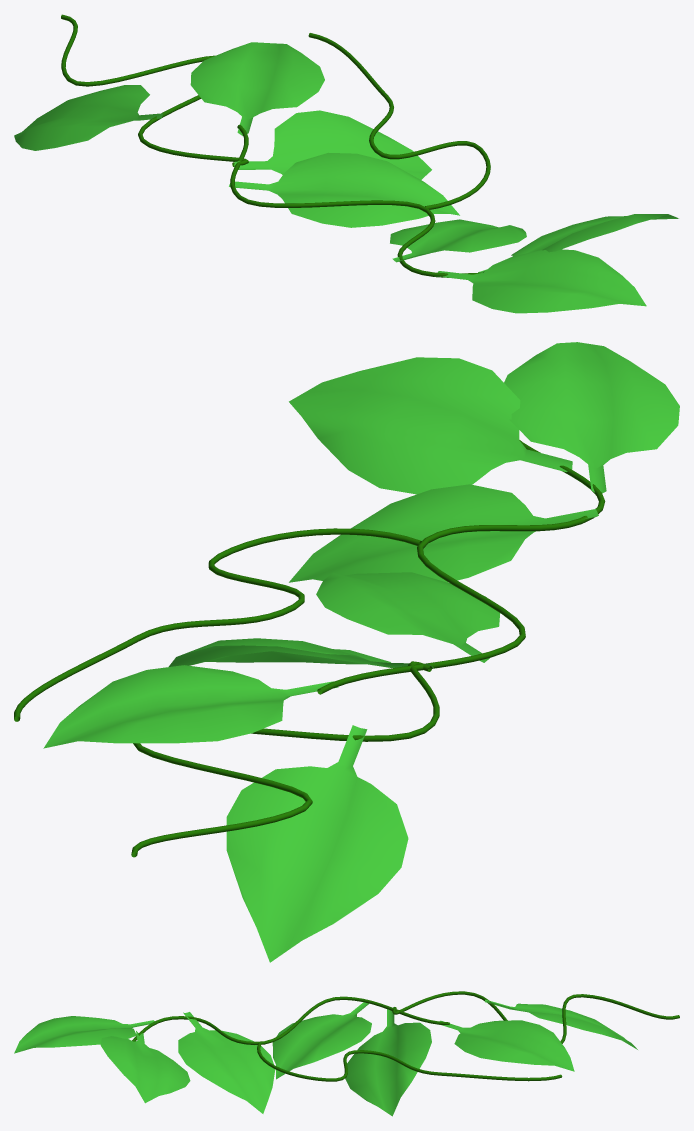
File: green_vines_short.fbx
3 views of the same model, one above another, from view 1: azimuth 30°, elevation 25°; view 2: azimuth 150°, elevation 25°; view 3: azimuth 270°, elevation 25° (orthographic). The views are drawn at different scales.
Visible parts, largest first — view 1: Vine7; view 2: Vine7; view 3: Vine7.
Boxes of the visible parts, x1,y1,x2,y2 form: Vine7: (14, 14, 678, 313); Vine7: (14, 342, 679, 962); Vine7: (14, 991, 679, 1116).
Size of the model in its own units: 734 by 230 by 1595.
